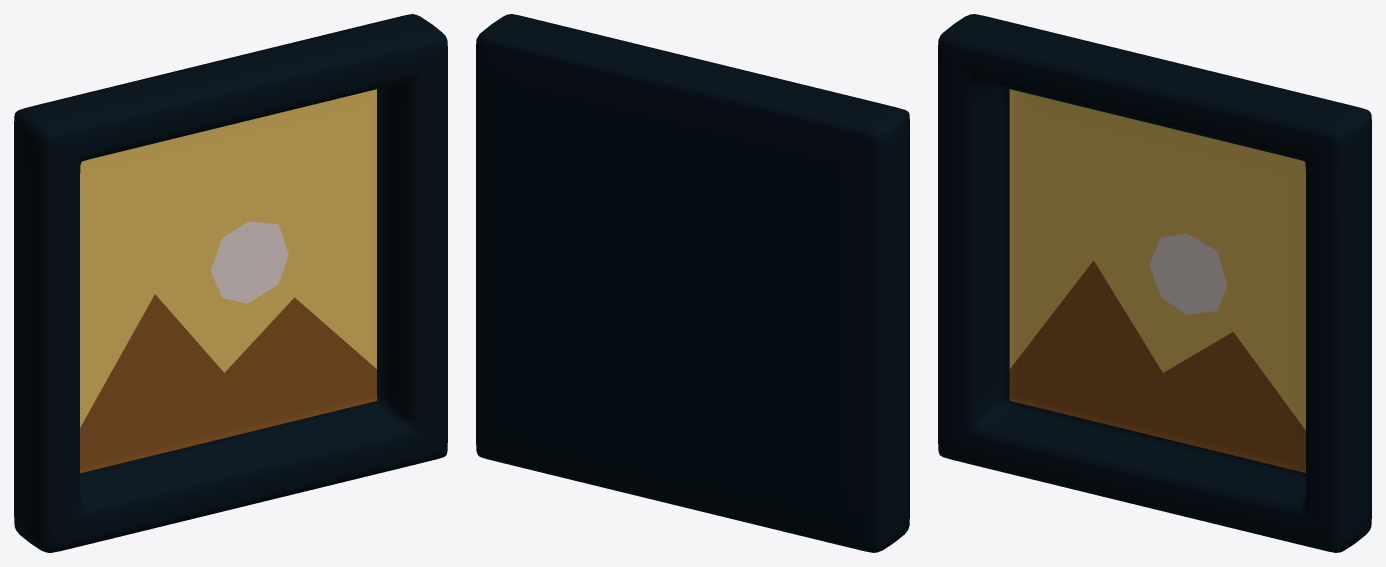
File: Figura 3.fbx
The picture shows the model from 3 angles, left to right: view 1: azimuth 30°, elevation 25°; view 2: azimuth 150°, elevation 25°; view 3: azimuth 330°, elevation 25°; orthographic projection.
Visible parts, largest first — view 1: Wall Figura 3; view 2: Wall Figura 3; view 3: Wall Figura 3.
Part boxes in pixels (left/top/right/bottom): Wall Figura 3: left=14, top=14, right=447, bottom=552; Wall Figura 3: left=476, top=14, right=909, bottom=552; Wall Figura 3: left=938, top=14, right=1371, bottom=552.
Bounding box in the file's own units: 94.23 × 94.23 × 13.5.
